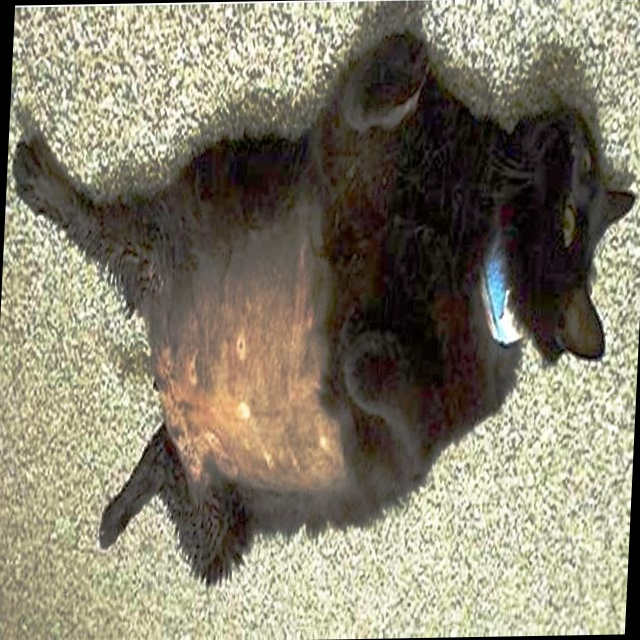hairloss: (148, 267, 360, 495)
